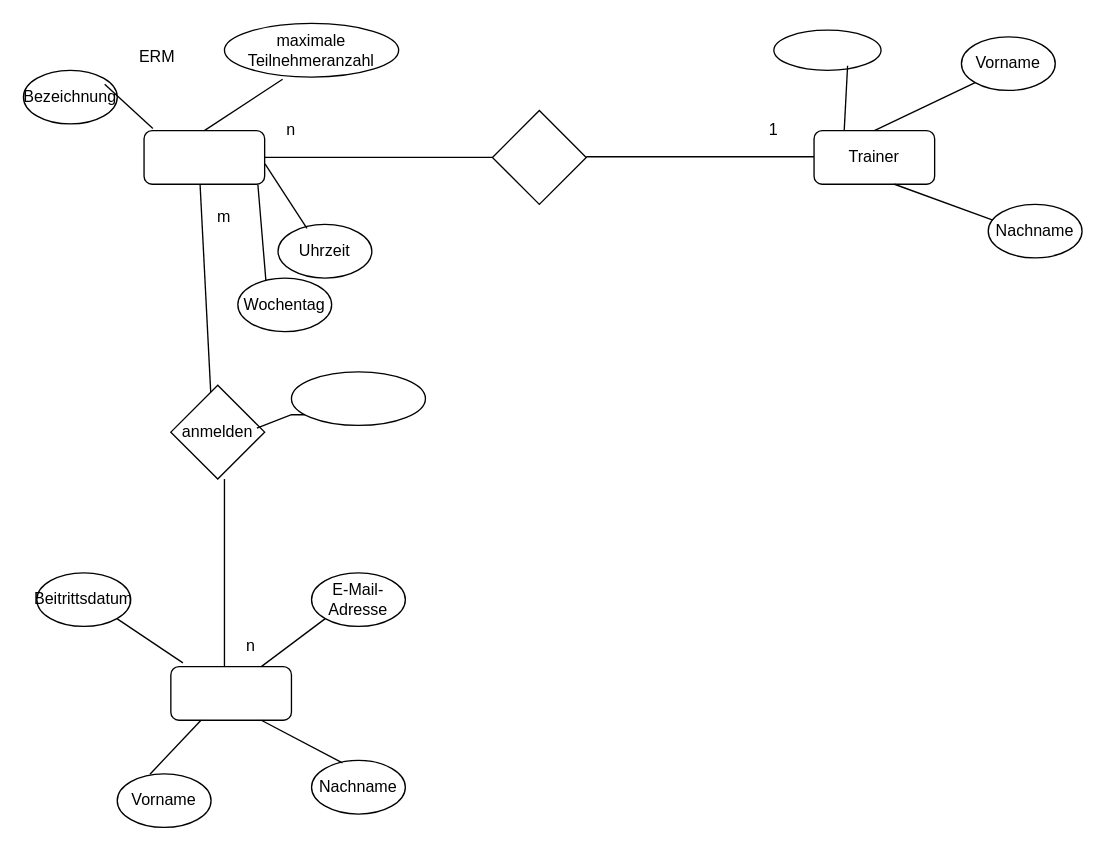
The diagram is 1106 pixels wide and 851 high, and some of its shapes have lost their labels. The shapes that lost their labels are listed below. From the top down, each one's centre as x and y in pixels, then its label:
At point 827,49: "Spezialgebiet".
At point 204,156: "Kurs".
At point 538,156: "leitet".
At point 357,398: "Anmeldedatum".
At point 230,692: "Mitglieder".
